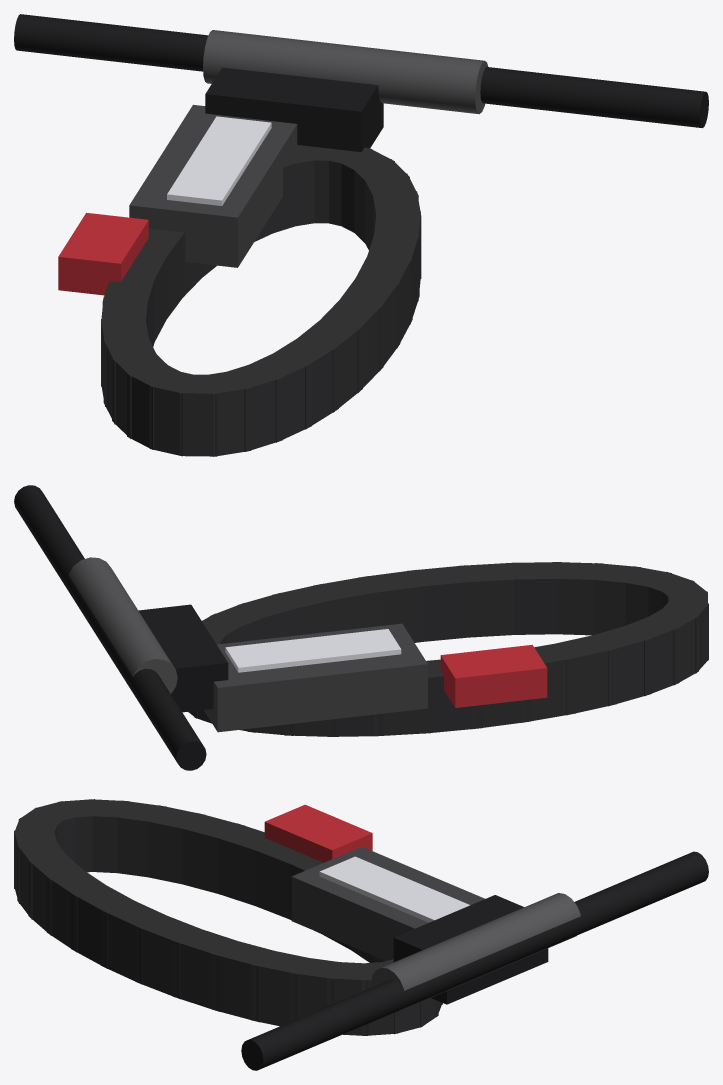
The model's file is CMU3DAU14TourniquetInsigniaExtraCloud.glb.
3 views of the same model, one above another, from view 1: azimuth 30°, elevation 25°; view 2: azimuth 150°, elevation 25°; view 3: azimuth 270°, elevation 25° (orthographic). The views are drawn at different scales.
Visible parts, largest first — view 1: Diagonal windlass rod, Windlass grip middle, Rigid buckle bridge, Windlass retaining bridge, Red pull tab, Pale fastening strip, Folded black tourniquet strap segment 19, Folded black tourniquet strap segment 16, Folded black tourniquet strap segment 18, Folded black tourniquet strap segment 17, Folded black tourniquet strap segment 21, Folded black tourniquet strap segment 20 (+23 smaller); view 2: Rigid buckle bridge, Diagonal windlass rod, Windlass grip middle, Red pull tab, Windlass retaining bridge, Pale fastening strip, Folded black tourniquet strap segment 23, Folded black tourniquet strap segment 22, Folded black tourniquet strap segment 21, Folded black tourniquet strap segment 10, Folded black tourniquet strap segment 20, Folded black tourniquet strap segment 24 (+19 smaller); view 3: Diagonal windlass rod, Rigid buckle bridge, Windlass grip middle, Windlass retaining bridge, Pale fastening strip, Red pull tab, Folded black tourniquet strap segment 26, Folded black tourniquet strap segment 23, Folded black tourniquet strap segment 25, Folded black tourniquet strap segment 10, Folded black tourniquet strap segment 24, Folded black tourniquet strap segment 9 (+20 smaller).
Boxes of the visible parts, <box> form: Diagonal windlass rod: <box>14,14,708,128</box>; Windlass grip middle: <box>203,30,488,114</box>; Rigid buckle bridge: <box>129,104,297,267</box>; Windlass retaining bridge: <box>205,67,383,151</box>; Red pull tab: <box>58,212,148,295</box>; Pale fastening strip: <box>167,116,271,205</box>; Folded black tourniquet strap segment 19: <box>244,351,311,442</box>; Folded black tourniquet strap segment 16: <box>180,374,218,456</box>; Folded black tourniquet strap segment 18: <box>225,362,282,451</box>; Folded black tourniquet strap segment 17: <box>202,370,251,456</box>; Folded black tourniquet strap segment 21: <box>296,317,362,412</box>; Folded black tourniquet strap segment 20: <box>274,335,338,429</box>; Rigid buckle bridge: <box>204,623,427,732</box>; Diagonal windlass rod: <box>14,485,206,770</box>; Windlass grip middle: <box>68,557,177,693</box>; Red pull tab: <box>440,644,547,707</box>; Windlass retaining bridge: <box>138,604,228,712</box>; Pale fastening strip: <box>225,629,401,672</box>; Folded black tourniquet strap segment 23: <box>407,565,474,641</box>; Folded black tourniquet strap segment 22: <box>457,562,519,637</box>; Folded black tourniquet strap segment 21: <box>505,562,563,634</box>; Folded black tourniquet strap segment 10: <box>557,634,616,715</box>; Folded black tourniquet strap segment 20: <box>549,562,604,635</box>; Folded black tourniquet strap segment 24: <box>359,569,425,642</box>; Diagonal windlass rod: <box>241,851,708,1070</box>; Rigid buckle bridge: <box>291,847,484,960</box>; Windlass grip middle: <box>371,893,580,1012</box>; Windlass retaining bridge: <box>393,895,548,1004</box>; Pale fastening strip: <box>319,856,469,922</box>; Red pull tab: <box>264,804,372,862</box>; Folded black tourniquet strap segment 26: <box>211,940,271,1022</box>; Folded black tourniquet strap segment 23: <box>101,899,171,984</box>; Folded black tourniquet strap segment 25: <box>172,927,233,1011</box>; Folded black tourniquet strap segment 10: <box>177,813,244,893</box>; Folded black tourniquet strap segment 24: <box>135,916,199,999</box>; Folded black tourniquet strap segment 9: <box>214,823,275,905</box>.
Bounding box in the file's own units: 0.5076 × 0.09 × 0.5086.
